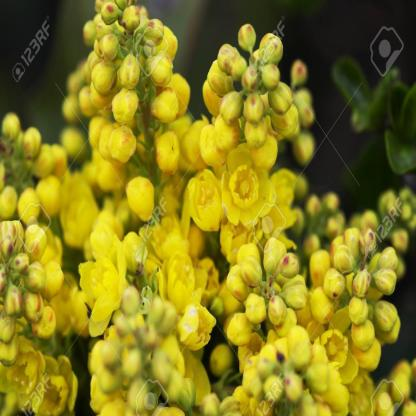other: (1, 23, 388, 405)
